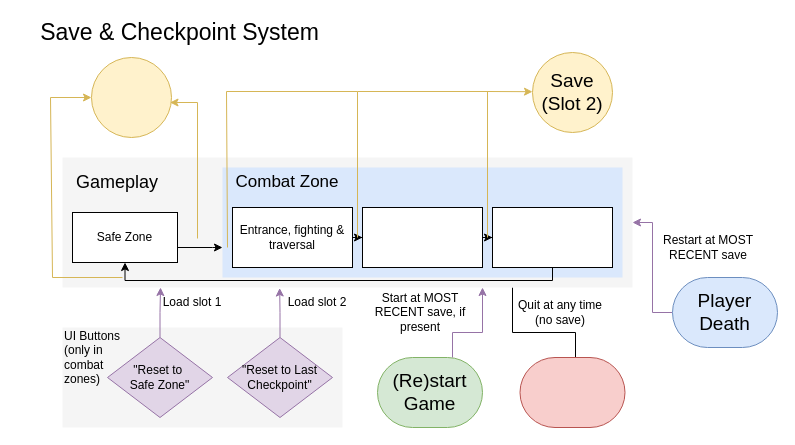
The diagram is 795 pixels wide and 445 high, and some of its shapes have lost their labels. Each missing label, with the box of its shape:
Backtracking with new weapon: (492, 206, 612, 268)
Miniboss fight + defeat: (362, 206, 482, 268)
Quit Game: (519, 356, 625, 428)
Save (Slot 1): (90, 56, 172, 138)
